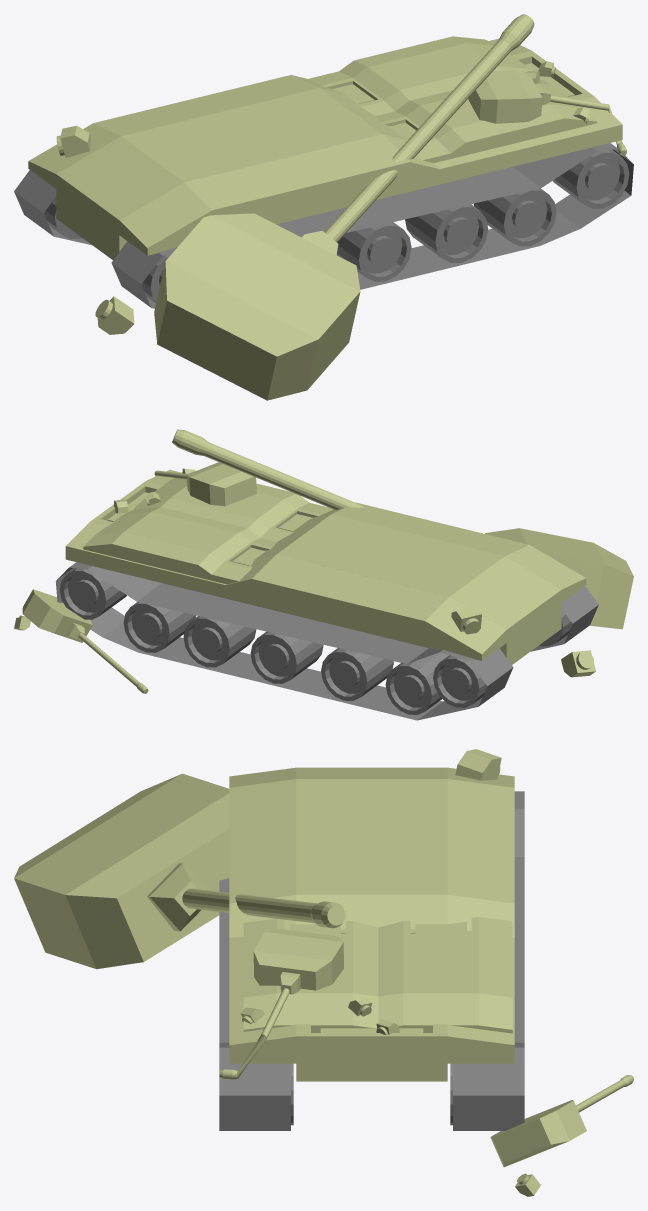
File: tanksTankBoss1Destroyed.glb
3 views of the same model, one above another, from view 1: azimuth 30°, elevation 25°; view 2: azimuth 150°, elevation 25°; view 3: azimuth 270°, elevation 25° (orthographic). The views are drawn at different scales.
Visible parts, largest first — view 1: Cube.027, Cube.028, Plane.005, Cube.030, Cube.029, Cube.034, Cube.033; view 2: Cube.027, Plane.005, Cube.030, Cube.028, Cube.029, Cube.034, Cube.031, Cube.032; view 3: Cube.027, Cube.028, Cube.030, Plane.005, Cube.029, Cube.034, Cube.031, Cube.033.
Part boxes in pixels (<box>): Cube.027: <box>28,38,622,334</box>; Cube.028: <box>154,213,360,400</box>; Plane.005: <box>14,143,633,308</box>; Cube.030: <box>308,36,597,162</box>; Cube.029: <box>302,14,534,254</box>; Cube.034: <box>468,70,542,123</box>; Cube.033: <box>537,86,626,155</box>; Cube.027: <box>65,470,595,677</box>; Plane.005: <box>55,562,598,720</box>; Cube.030: <box>14,468,333,630</box>; Cube.028: <box>485,528,633,629</box>; Cube.029: <box>172,429,364,509</box>; Cube.034: <box>186,462,256,506</box>; Cube.031: <box>22,589,92,642</box>; Cube.032: <box>66,622,148,693</box>; Cube.027: <box>229,749,514,1081</box>; Cube.028: <box>14,773,229,969</box>; Cube.030: <box>240,917,540,1196</box>; Plane.005: <box>219,791,524,1130</box>; Cube.029: <box>147,863,345,931</box>; Cube.034: <box>253,929,343,990</box>; Cube.031: <box>490,1100,586,1167</box>; Cube.033: <box>219,972,300,1079</box>.
Bounding box in the file's own units: 36.01 × 12.68 × 28.94.
